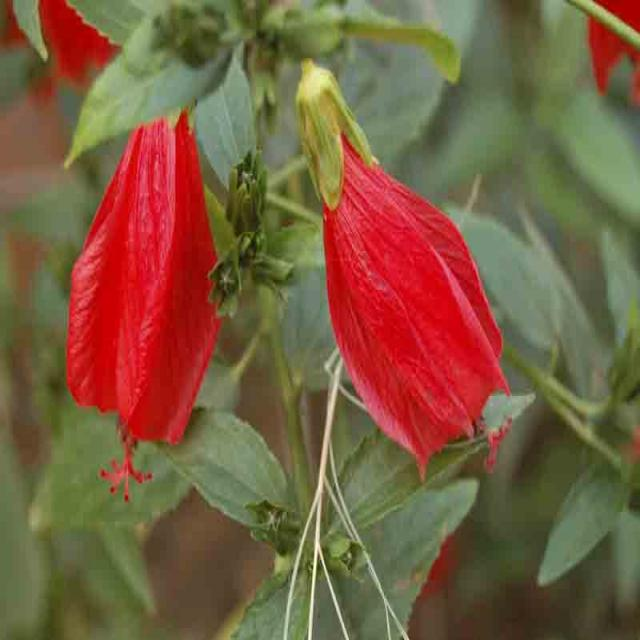Flower: (296, 66, 515, 494), (64, 73, 226, 501)
